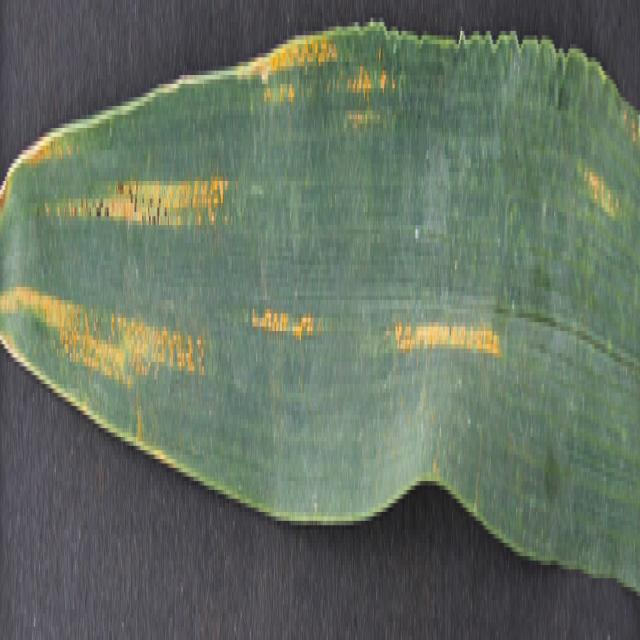leaf rust: (1, 80, 236, 472), (247, 22, 394, 146), (392, 287, 503, 406), (247, 287, 328, 375), (577, 115, 629, 243)
